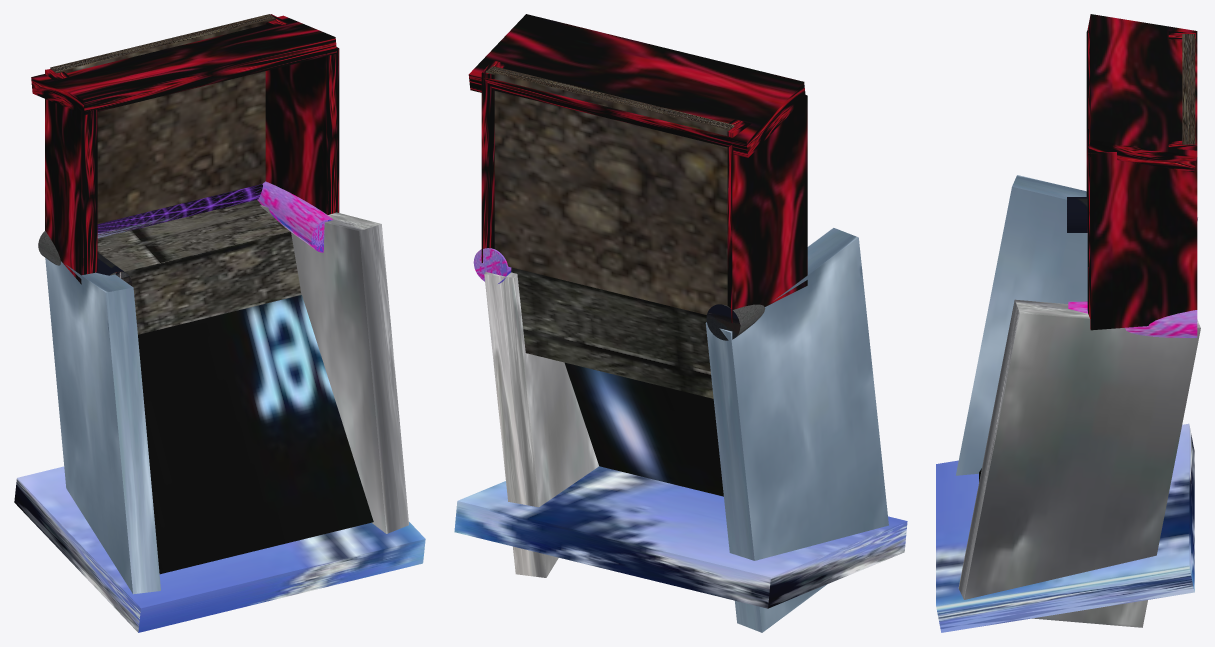
Rendered from npcwavesv1.glb.
3 renders of one model, left to right at view 1: azimuth 30°, elevation 25°; view 2: azimuth 150°, elevation 25°; view 3: azimuth 270°, elevation 25°, orthographic. The views are drawn at different scales.
Parts seen in each view (by area): view 1: Cube.1599, Cube.1600, Cube.1594, Cube.1602, Cube.1601, Cube.1595, Cube.1598, Cube.1596, Cube.1597, Cylinder.083, Cylinder.084, Cylinder.085; view 2: Cube.1600, Cube.1594, Cube.1602, Cube.1598, Cube.1595, Cube.1601, Cube.1597, Cube.1599, Cube.1596, Cylinder.085, Cylinder.084; view 3: Cube.1601, Cube.1596, Cube.1602, Cube.1600, Cube.1598, Cube.1594, Cylinder.084, Cylinder.085, Cube.1597.
Boxes of the visible parts, left/top/right/bottom form: Cube.1599: left=138, top=295, right=373, bottom=574; Cube.1600: left=45, top=258, right=160, bottom=594; Cube.1594: left=50, top=14, right=275, bottom=223; Cube.1602: left=14, top=466, right=425, bottom=632; Cube.1601: left=260, top=205, right=408, bottom=533; Cube.1595: left=97, top=200, right=301, bottom=334; Cube.1598: left=31, top=15, right=336, bottom=114; Cube.1596: left=265, top=14, right=339, bottom=214; Cube.1597: left=45, top=69, right=97, bottom=284; Cylinder.083: left=97, top=184, right=262, bottom=238; Cylinder.084: left=257, top=181, right=332, bottom=252; Cylinder.085: left=38, top=231, right=131, bottom=285; Cube.1600: left=705, top=228, right=888, bottom=632; Cube.1594: left=486, top=66, right=734, bottom=314; Cube.1602: left=454, top=466, right=907, bottom=608; Cube.1598: left=468, top=14, right=805, bottom=157; Cube.1595: left=511, top=267, right=713, bottom=398; Cube.1601: left=484, top=272, right=598, bottom=577; Cube.1597: left=727, top=94, right=807, bottom=323; Cube.1599: left=564, top=362, right=723, bottom=496; Cube.1596: left=481, top=60, right=508, bottom=262; Cylinder.085: left=706, top=304, right=765, bottom=340; Cylinder.084: left=473, top=248, right=511, bottom=283; Cube.1601: left=958, top=299, right=1200, bottom=627; Cube.1596: left=1087, top=139, right=1197, bottom=330; Cube.1602: left=936, top=423, right=1194, bottom=632; Cube.1600: left=956, top=175, right=1197, bottom=475; Cube.1598: left=1087, top=14, right=1197, bottom=172; Cube.1594: left=1182, top=34, right=1195, bottom=144; Cylinder.084: left=1068, top=301, right=1197, bottom=337; Cylinder.085: left=1067, top=197, right=1087, bottom=232; Cube.1597: left=1086, top=29, right=1195, bottom=196.
Size of the model in its own units: 347 by 566 by 274.
10 materials, 10 textured.
